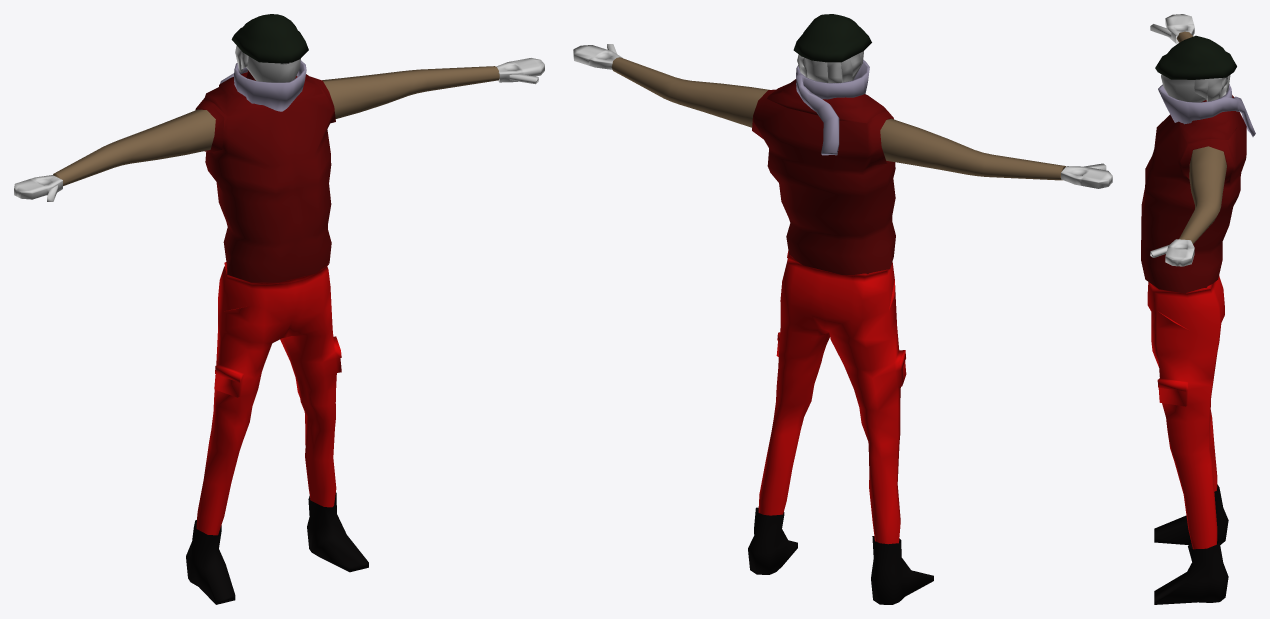
The picture shows the model from 3 angles, left to right: view 1: azimuth 30°, elevation 25°; view 2: azimuth 150°, elevation 25°; view 3: azimuth 270°, elevation 25°; orthographic projection. The views are drawn at different scales.
Parts seen in each view (by area): view 1: base_character, base_character.001; view 2: base_character, base_character.001; view 3: base_character, base_character.001.
Boxes of the visible parts, box(x1,y1,x2,y2) form: base_character: box(14, 58, 544, 604); base_character.001: box(220, 14, 308, 111); base_character: box(573, 44, 1112, 604); base_character.001: box(793, 14, 871, 155); base_character: box(1141, 14, 1246, 604); base_character.001: box(1155, 35, 1255, 136).
Size of the model in its own units: 9.26 by 9.28 by 1.83.
